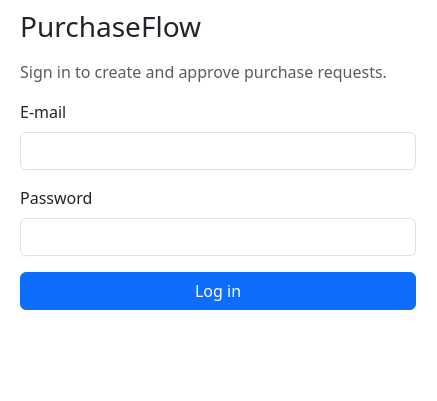
Scenario: F-01 login screen (component) › CT-01 / AC-10: shows the server error and keeps the e-mail when login fails
In the field labelled "E-mail": (218, 151) x1=20 y1=132 x2=416 y2=170, type "ploy@purchaseflow.test"
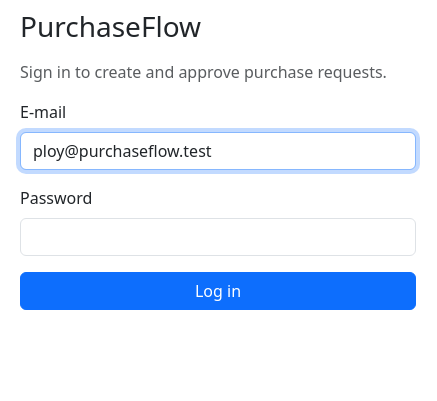
In the password field labelled "Password": (218, 237) x1=20 y1=218 x2=416 y2=256, type "wrong"
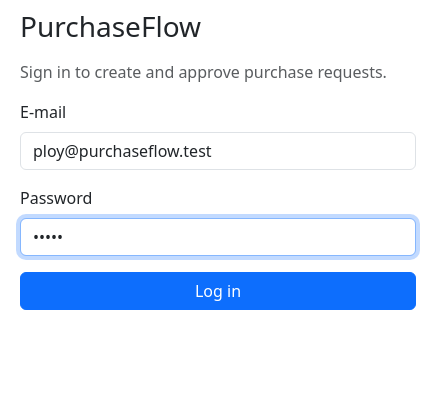
Click the button "Log in": (218, 291) x1=20 y1=272 x2=416 y2=310
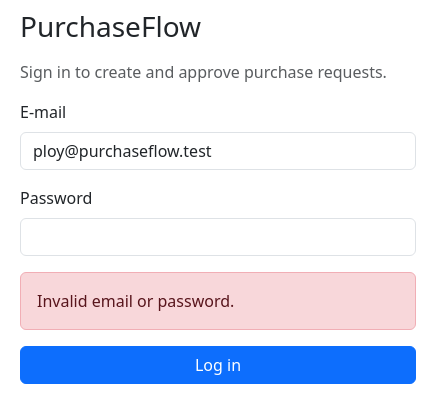
Result: the message reads "Invalid email or password." at x1=37 y1=290 x2=234 y2=312
Result: the password field labelled "Password" is empty at x1=20 y1=218 x2=416 y2=256
